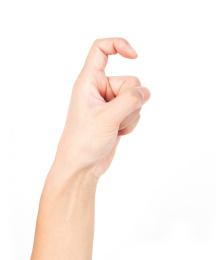anticlockwise: (54, 35, 151, 169)
